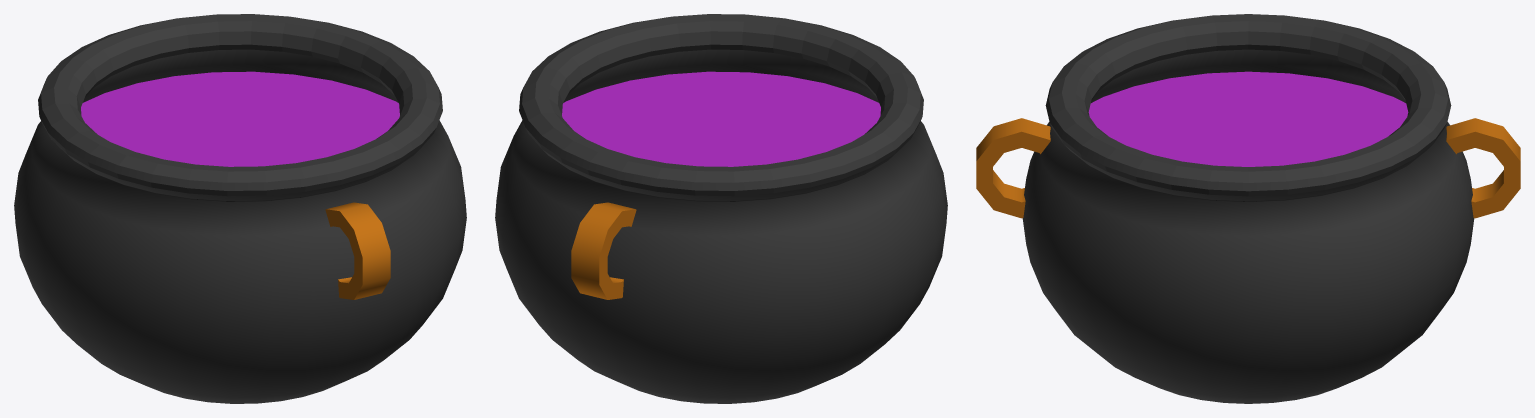
File: CalderoMSv6.fbx
3 renders of one model, left to right at view 1: azimuth 30°, elevation 25°; view 2: azimuth 150°, elevation 25°; view 3: azimuth 270°, elevation 25°, orthographic.
Parts seen in each view (by area): view 1: Sphere002; view 2: Sphere002; view 3: Sphere002.
Boxes of the visible parts, x1,y1,x2,y2 form: Sphere002: [14, 14, 466, 403]; Sphere002: [495, 14, 947, 403]; Sphere002: [976, 14, 1520, 403].
Size of the model in its own units: 29.28 by 18.89 by 35.17.
